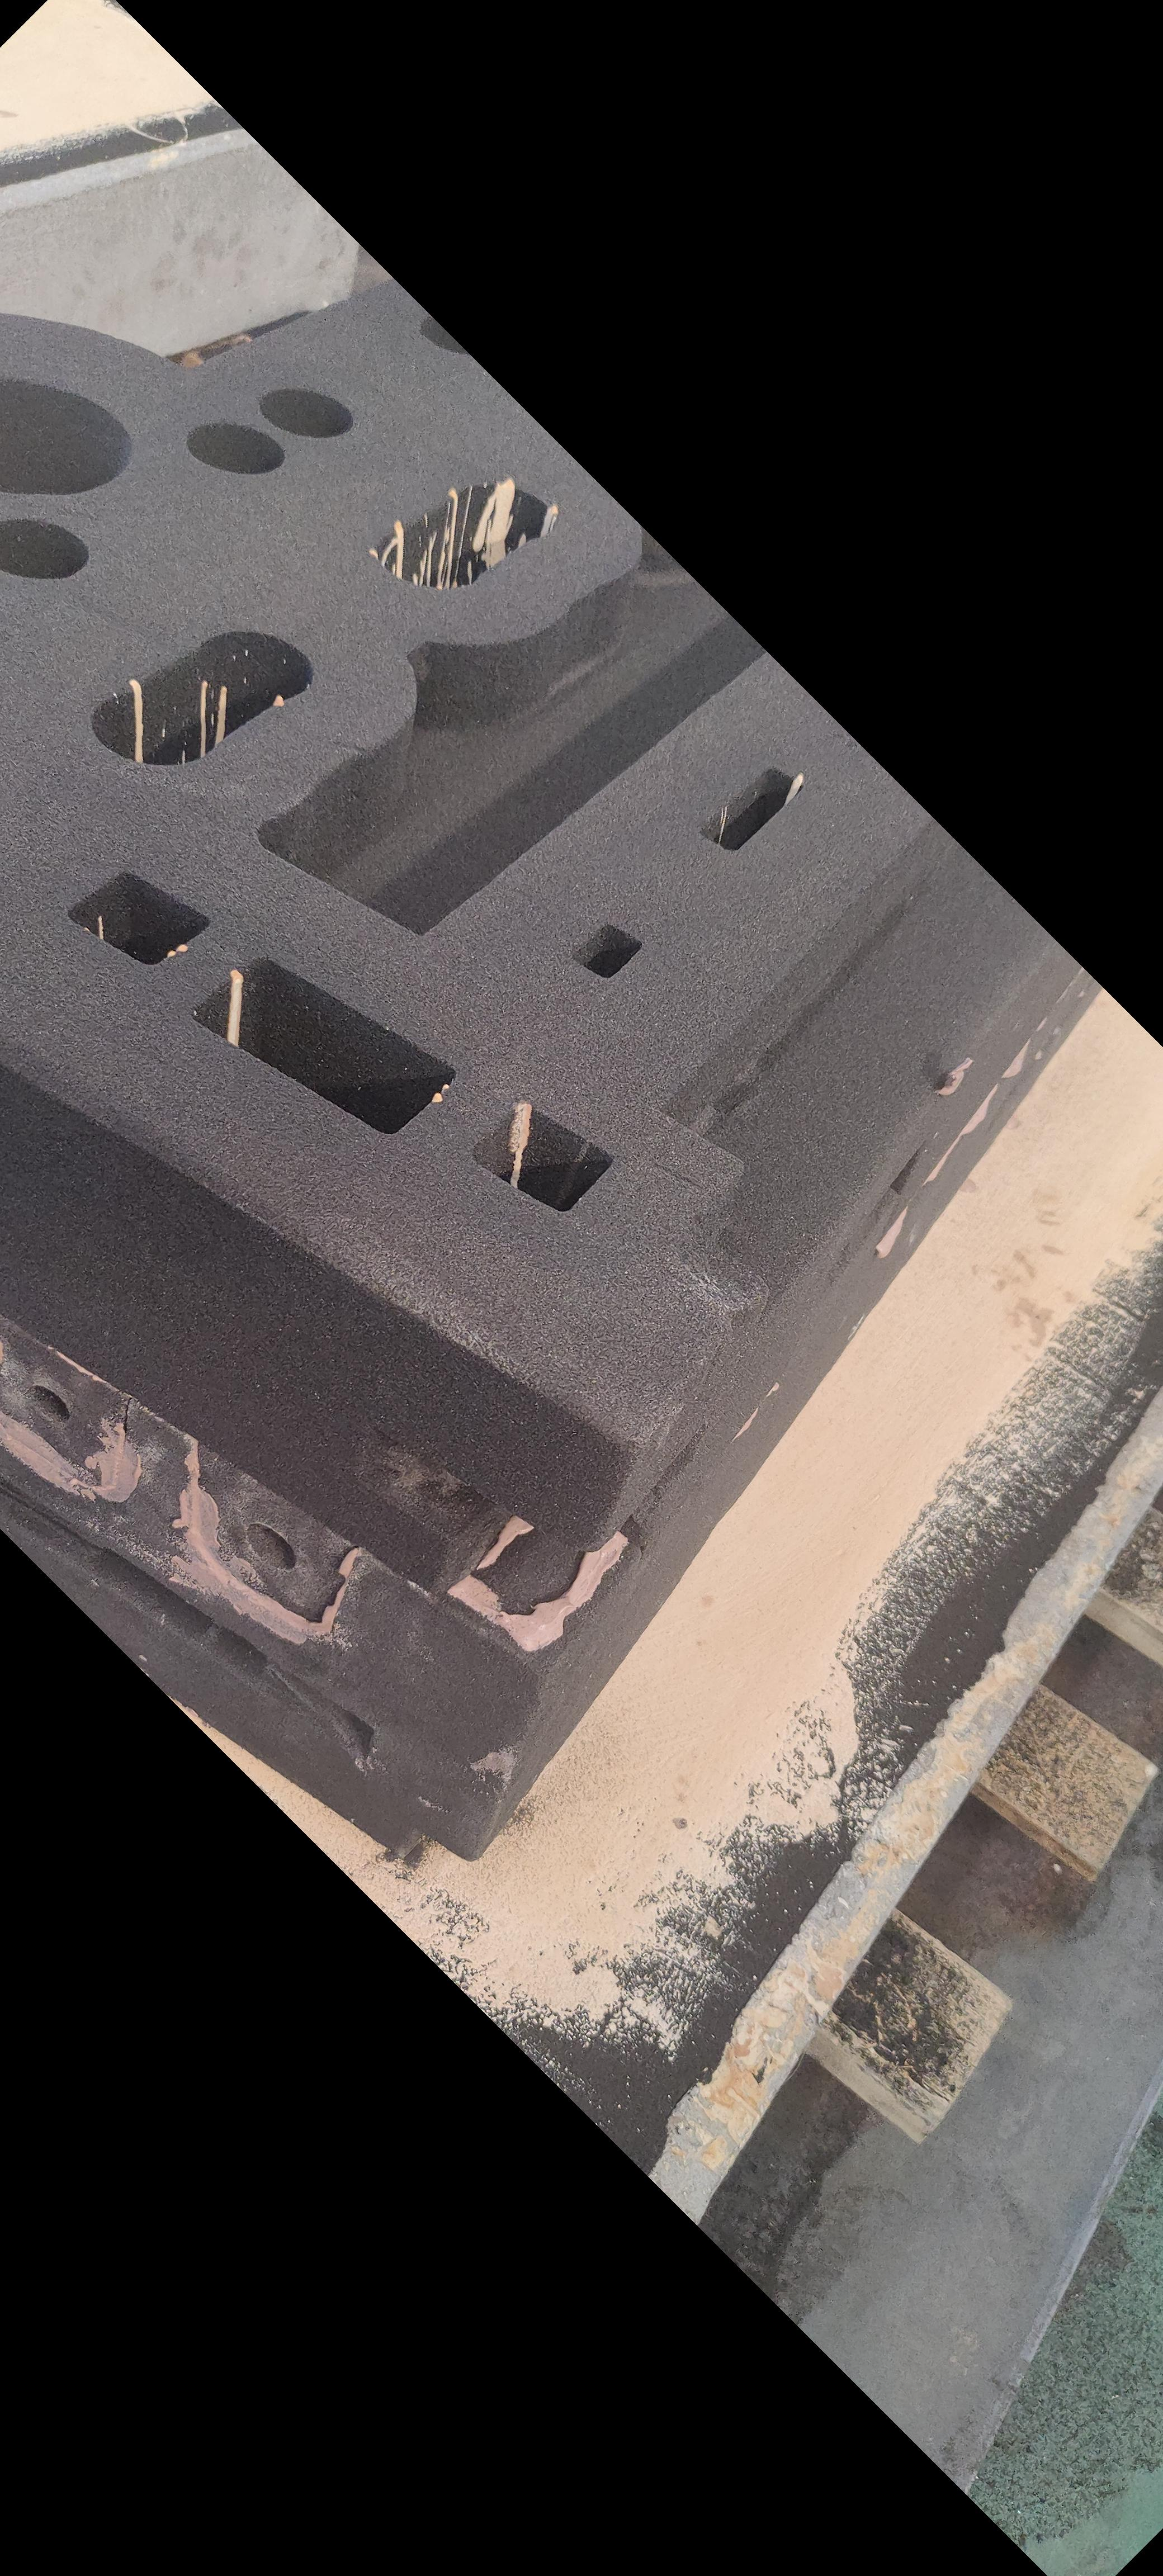pouring hole: (0, 379, 135, 493)
